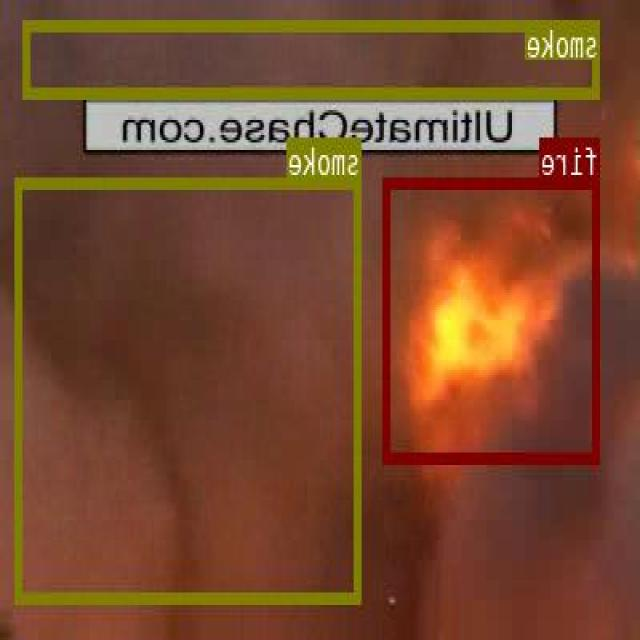fire: (385, 175, 600, 462)
smoke: (17, 177, 362, 601), (24, 20, 602, 96)
